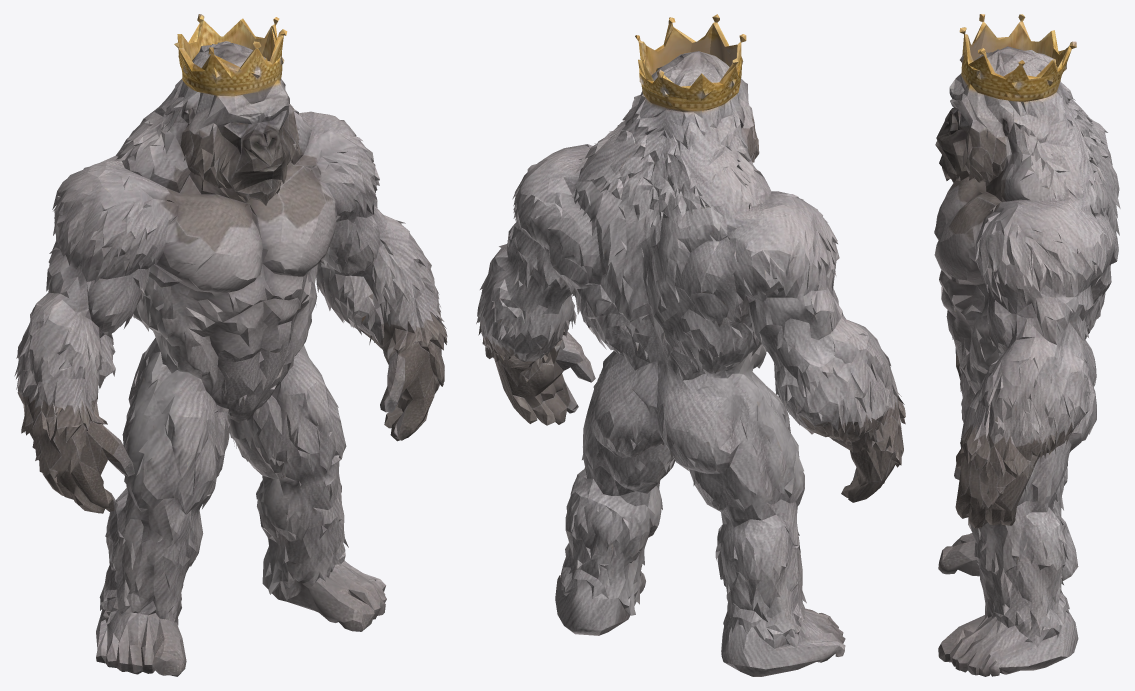
File: pet_gorilla_white_v7.glb
3 renders of one model, left to right at view 1: azimuth 30°, elevation 25°; view 2: azimuth 150°, elevation 25°; view 3: azimuth 270°, elevation 25°, orthographic. The views are drawn at different scales.
Visible parts, largest first — view 1: char1; view 2: char1; view 3: char1.
Boxes of the visible parts, bbox=[...] form: char1: bbox=[14, 14, 447, 676]; char1: bbox=[476, 14, 905, 676]; char1: bbox=[934, 14, 1120, 676].
Size of the model in its own units: 1.09 by 1.52 by 0.4367.
Materials: 1 (1 with a texture image).
